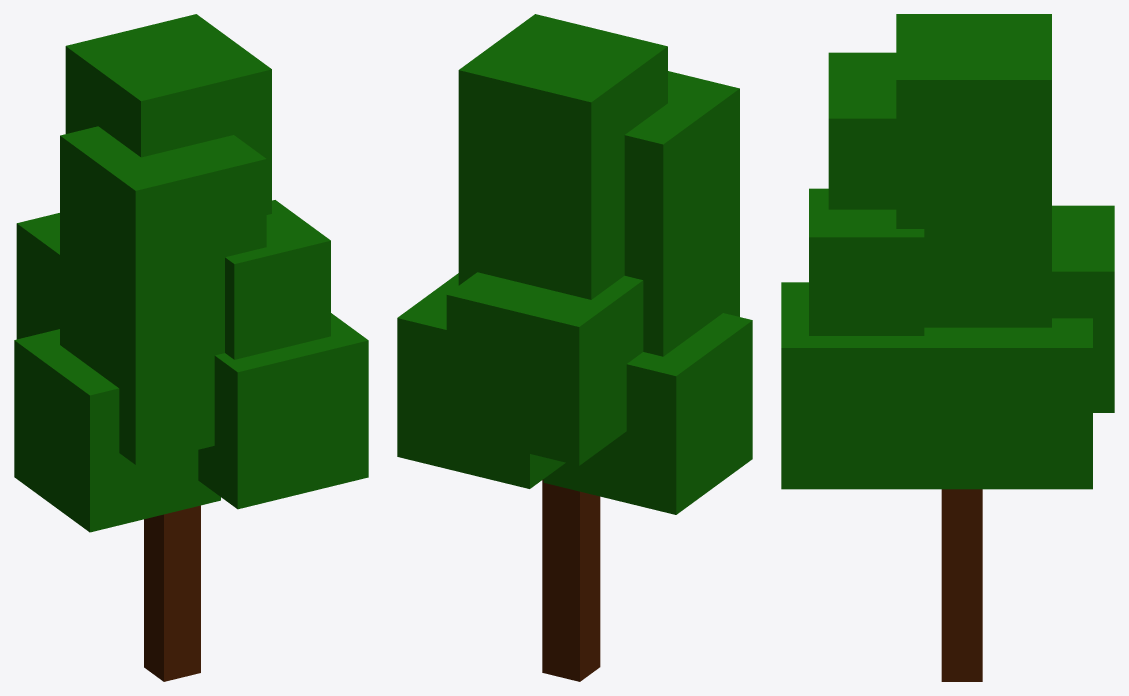
The model's file is tree_color.fbx.
3 views of the same model, side by side, from view 1: azimuth 30°, elevation 25°; view 2: azimuth 150°, elevation 25°; view 3: azimuth 270°, elevation 25° (orthographic). The views are drawn at different scales.
Visible parts, largest first — view 1: Cube.001; view 2: Cube.001; view 3: Cube.001.
Boxes of the visible parts, box(x1,y1,x2,y2) form: Cube.001: box(14, 14, 368, 681); Cube.001: box(397, 14, 752, 681); Cube.001: box(781, 14, 1114, 681).
Size of the model in its own units: 1.83 by 4.43 by 2.14.
